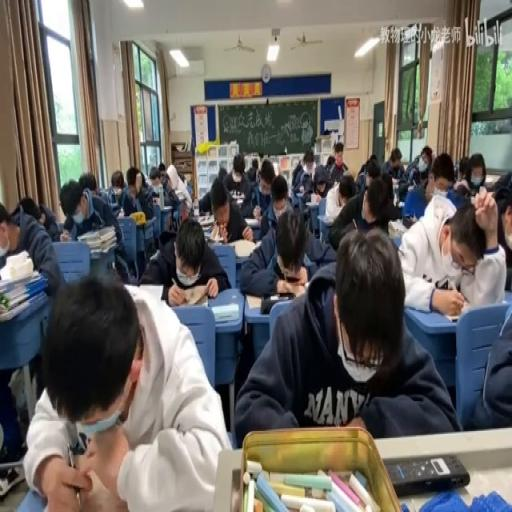calculator: (246, 283, 306, 310), (229, 236, 257, 258), (210, 300, 238, 322), (135, 282, 163, 300), (77, 226, 109, 240), (387, 218, 406, 238), (90, 244, 115, 258), (177, 296, 208, 307), (195, 212, 214, 229), (442, 310, 464, 323), (290, 189, 304, 209), (482, 175, 498, 186), (174, 189, 188, 201), (244, 216, 260, 225), (203, 232, 219, 240), (305, 198, 319, 206), (115, 208, 125, 219), (151, 192, 162, 202), (158, 204, 172, 210), (390, 176, 398, 186), (232, 198, 242, 204), (297, 185, 304, 192)
paper: (26, 270, 228, 512), (234, 229, 454, 442), (395, 182, 502, 310), (61, 176, 131, 283), (140, 213, 226, 299), (462, 282, 510, 430), (0, 200, 62, 302), (326, 170, 398, 250), (256, 169, 295, 235), (491, 170, 512, 278), (121, 165, 155, 223), (221, 152, 253, 211), (151, 165, 181, 223), (404, 145, 434, 192), (291, 148, 317, 193), (382, 145, 404, 184), (430, 152, 454, 186), (16, 195, 42, 222), (78, 169, 98, 195), (363, 158, 379, 186), (258, 161, 274, 189), (338, 183, 354, 205), (456, 156, 470, 180), (452, 178, 470, 196), (110, 171, 125, 192), (314, 168, 326, 190), (107, 185, 117, 203), (217, 165, 226, 183), (149, 166, 158, 184), (325, 155, 334, 168), (334, 142, 343, 155), (303, 158, 312, 171), (157, 162, 165, 174), (252, 156, 258, 170), (370, 152, 376, 161)
person: (385, 452, 470, 494), (402, 214, 416, 228)
